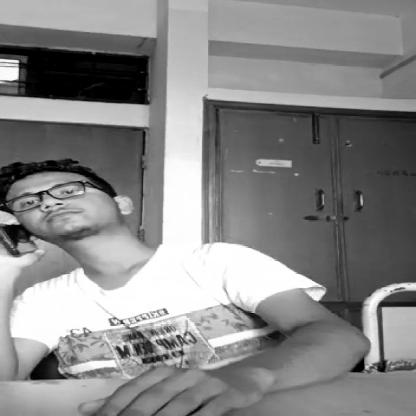Distracted: (0, 162, 128, 236)
